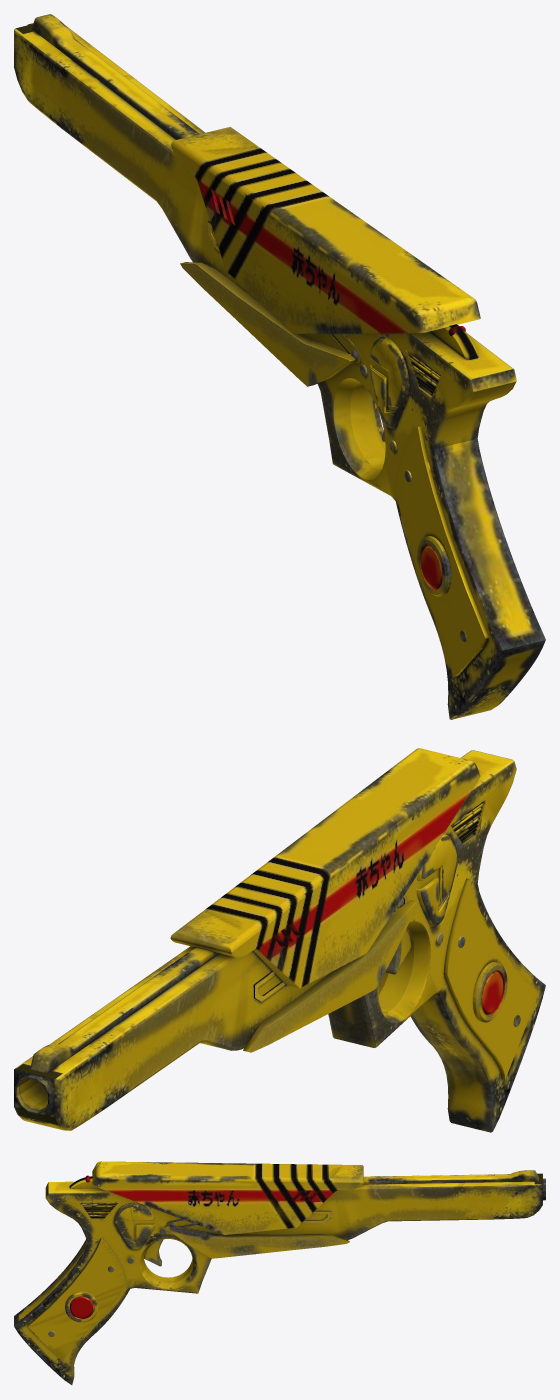
Rendered from Yellow gun textured_MS_0001.fbx.
3 renders of one model, top to bottom at view 1: azimuth 30°, elevation 25°; view 2: azimuth 150°, elevation 25°; view 3: azimuth 270°, elevation 25°, orthographic. The views are drawn at different scales.
Parts seen in each view (by area): view 1: Yellow_gun_1; view 2: Yellow_gun_1; view 3: Yellow_gun_1.
Part boxes in pixels (<box>): Yellow_gun_1: <box>14,14,545,719</box>; Yellow_gun_1: <box>14,748,545,1132</box>; Yellow_gun_1: <box>14,1161,545,1384</box>.
Bounding box in the file's own units: 55.57 × 279 × 635.
Materials: 4 (4 with a texture image).
